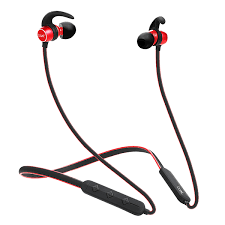earphone: (16, 10, 203, 213)
